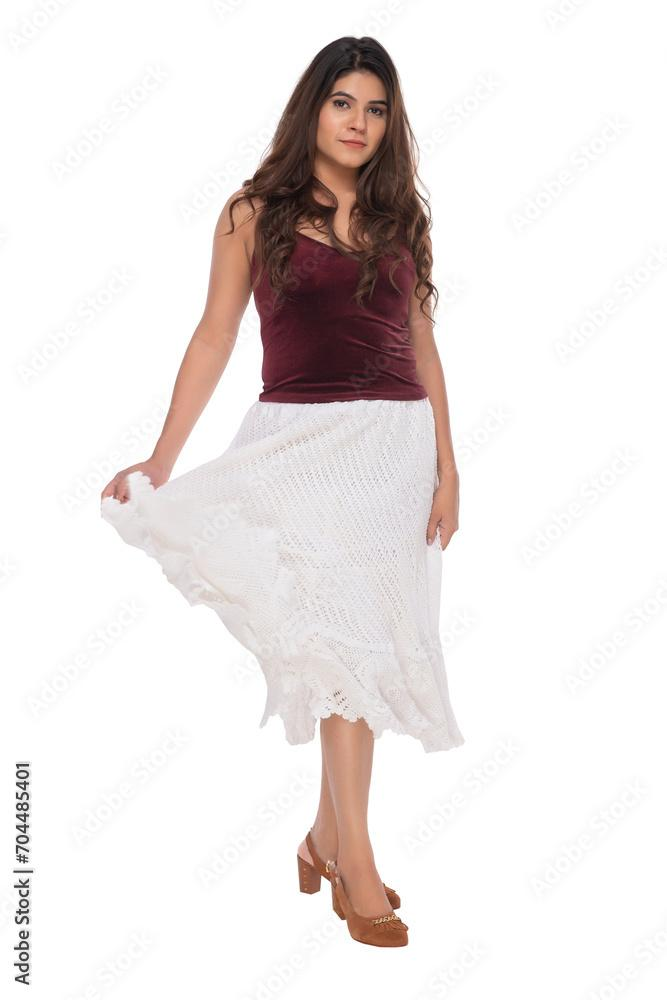Human: (144, 24, 524, 999)
